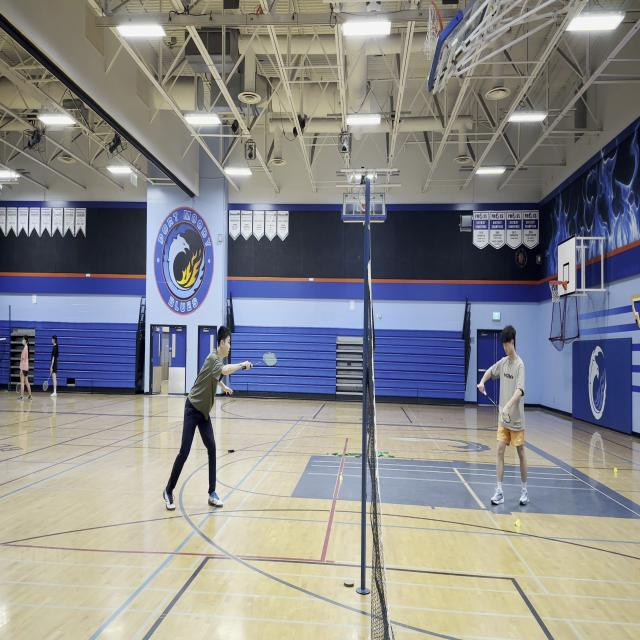shuttlecock: (500, 415, 504, 422)
